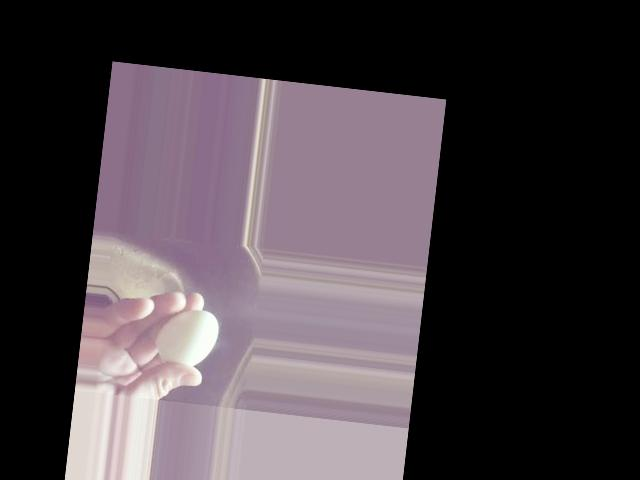egg: (154, 306, 220, 369)
